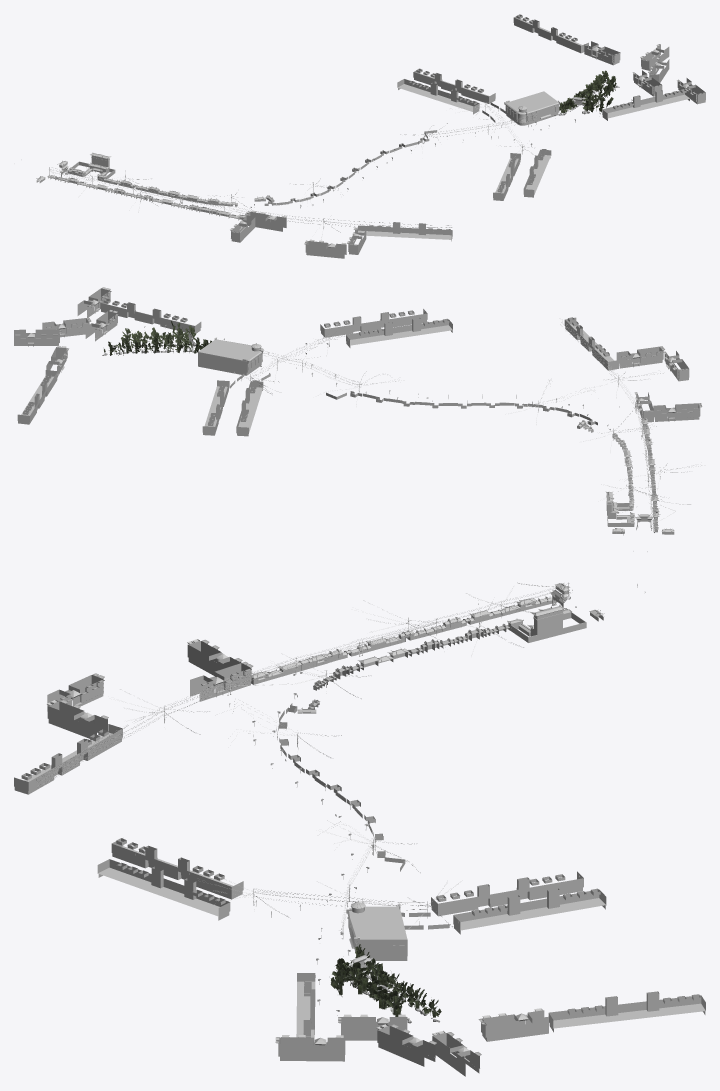
File: old_bd_01.FBX
3 views of the same model, one above another, from view 1: azimuth 30°, elevation 25°; view 2: azimuth 150°, elevation 25°; view 3: azimuth 270°, elevation 25° (orthographic). The views are drawn at different scales.
Parts seen in each view (by area): view 1: old_bd01_02, old_bd01_00, bamboo; view 2: old_bd01_02, old_bd01_00, bamboo; view 3: old_bd01_02, old_bd01_00, bamboo.
Part boxes in pixels (<box>): old_bd01_02: <box>389,14,705,200</box>; old_bd01_00: <box>36,91,558,258</box>; bamboo: <box>559,70,616,113</box>; old_bd01_02: <box>14,287,452,436</box>; old_bd01_00: <box>198,317,702,551</box>; bamboo: <box>104,321,211,355</box>; old_bd01_02: <box>97,820,705,1076</box>; old_bd01_00: <box>14,582,645,939</box>; bamboo: <box>330,944,441,1017</box>.
Size of the model in its own units: 917 by 30.69 by 548.
